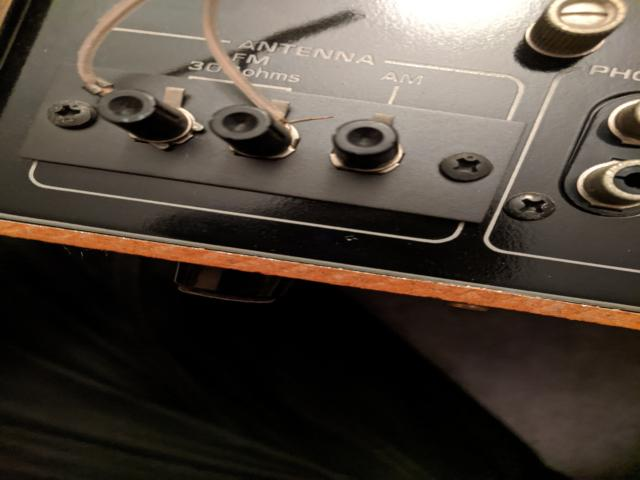CRS: (439, 152, 494, 182), (44, 101, 98, 128), (506, 192, 556, 221)
